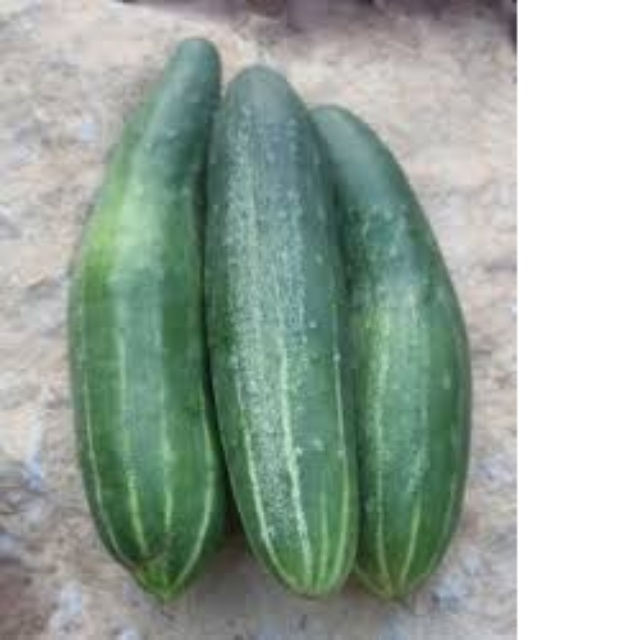dua_leo: (64, 35, 229, 603), (303, 101, 475, 601), (201, 63, 360, 600)
